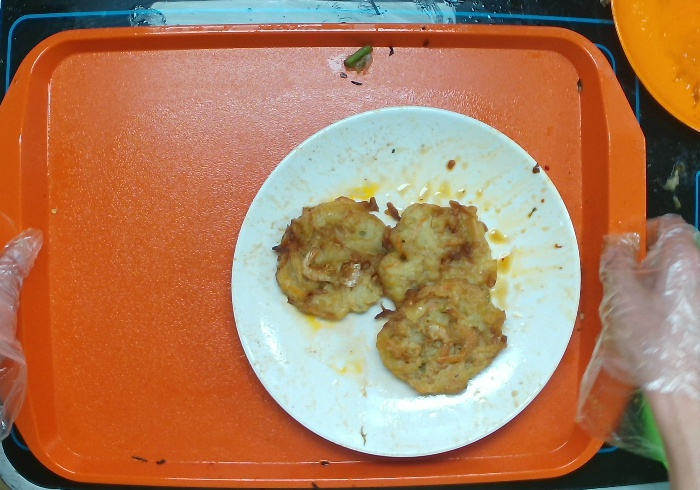HZYJPL-Bai_Se_Yuan_Pan: (230, 104, 583, 460)
